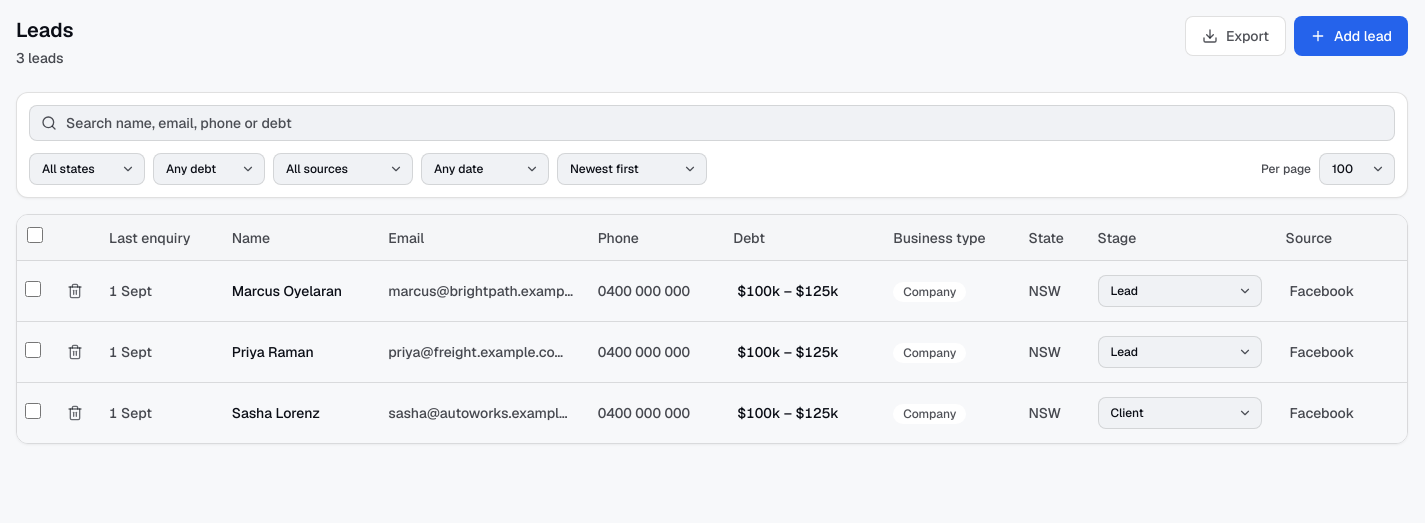
Test case: selection › does not open the record when a row control is used
The width and height of the screenshot is (1425, 523).
Click the checkbox named "Select Marcus Oyelaran" at (33, 288), box [25,280,41,296]
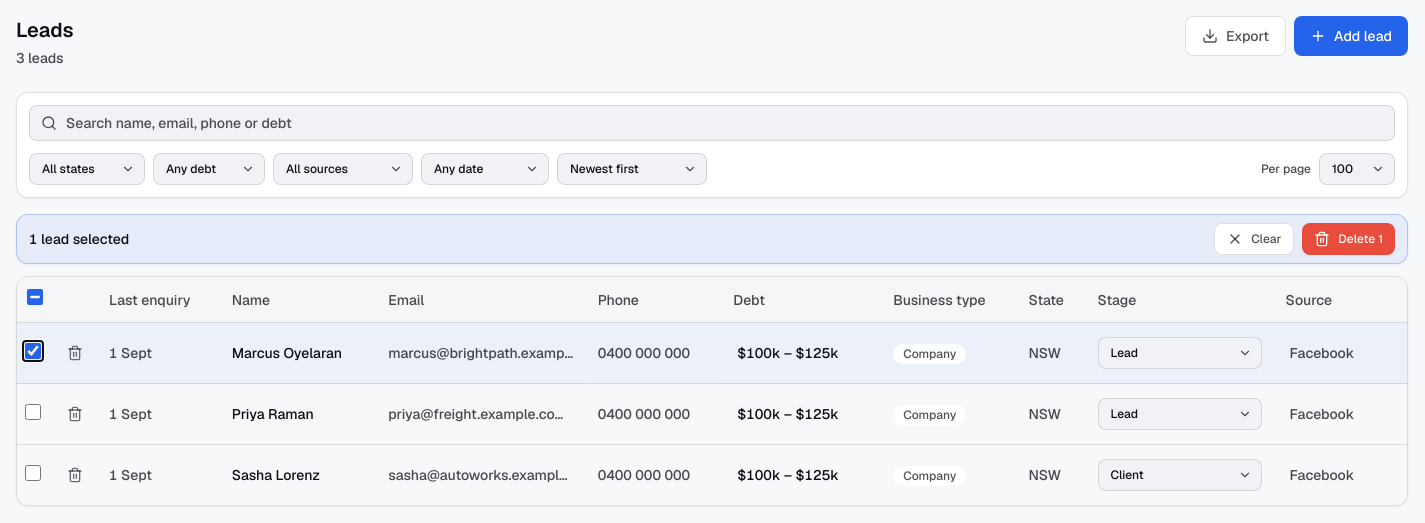
Result: the element showing "1 lead selected" is shown at [29,229,129,249]
